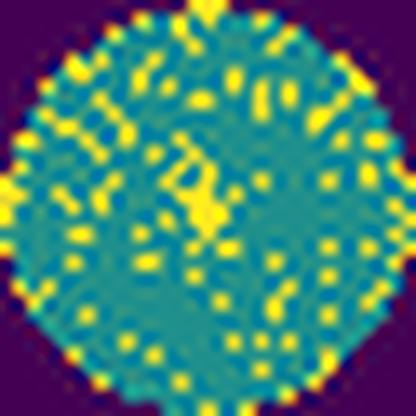Center: (156, 131, 235, 254)
